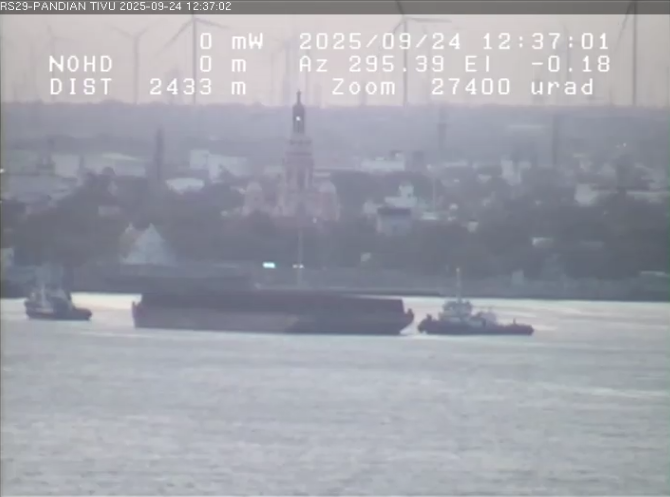BARGE: (121, 252, 417, 351)
TOWING: (10, 182, 597, 376)
TUGS: (418, 266, 550, 353), (20, 261, 107, 341)
